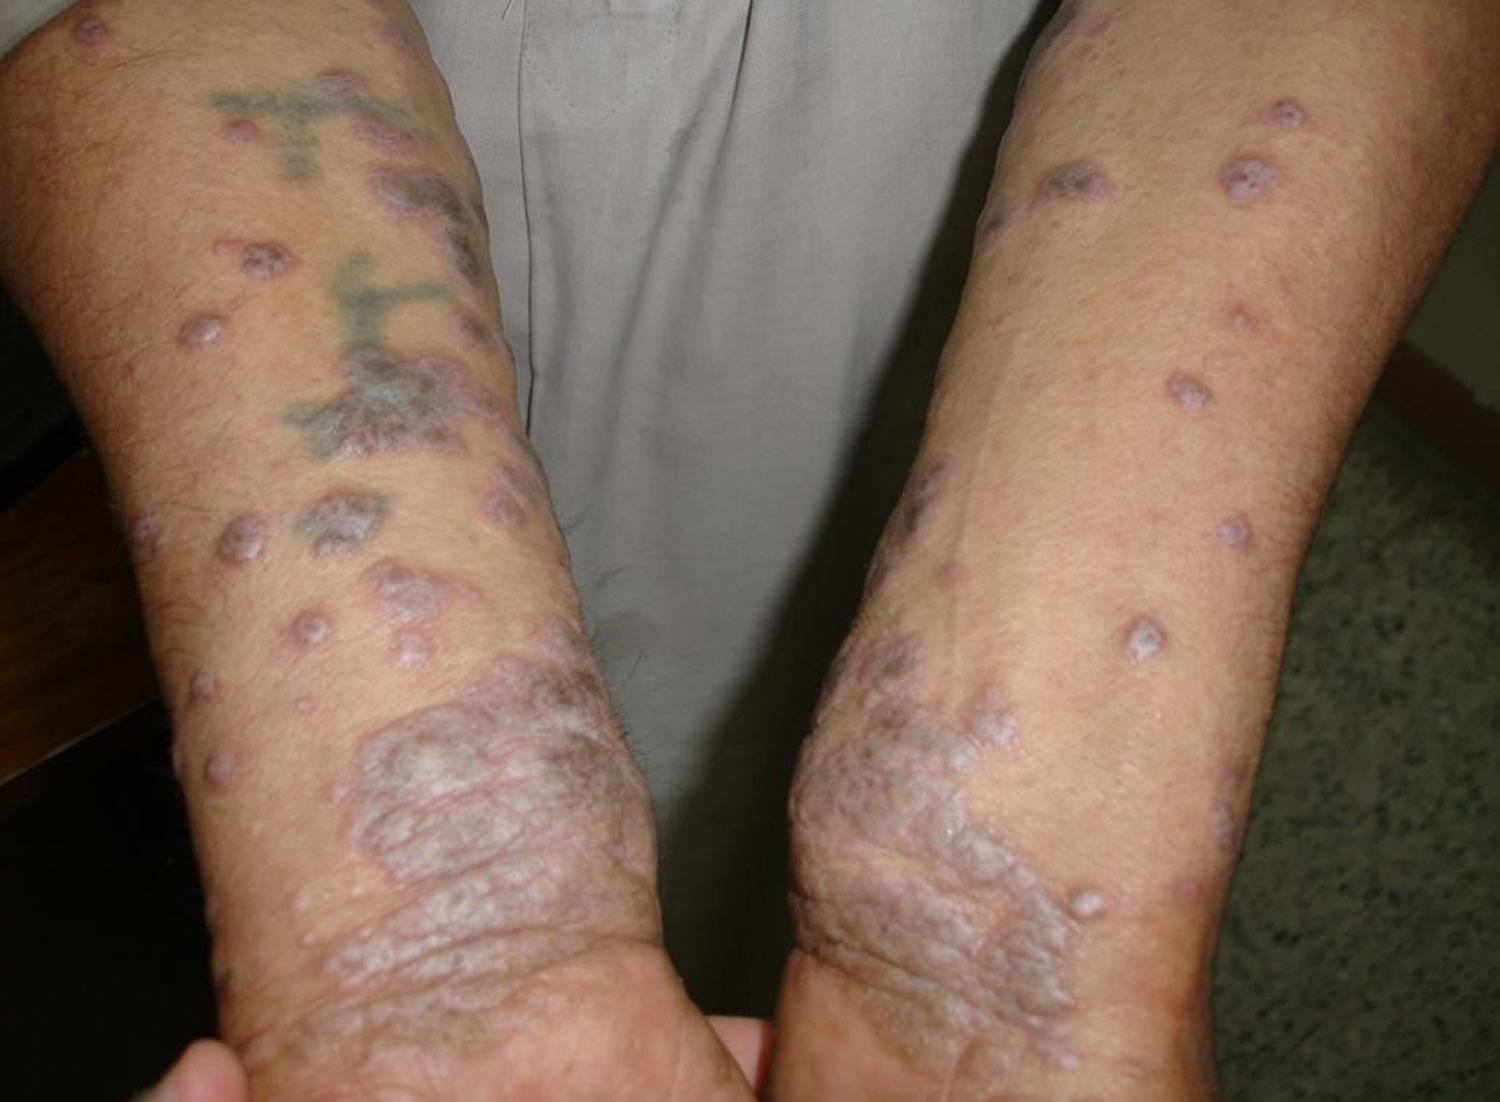hypertrophic lichen planus: (136, 73, 484, 679), (842, 554, 1220, 1095), (280, 670, 644, 1080)
